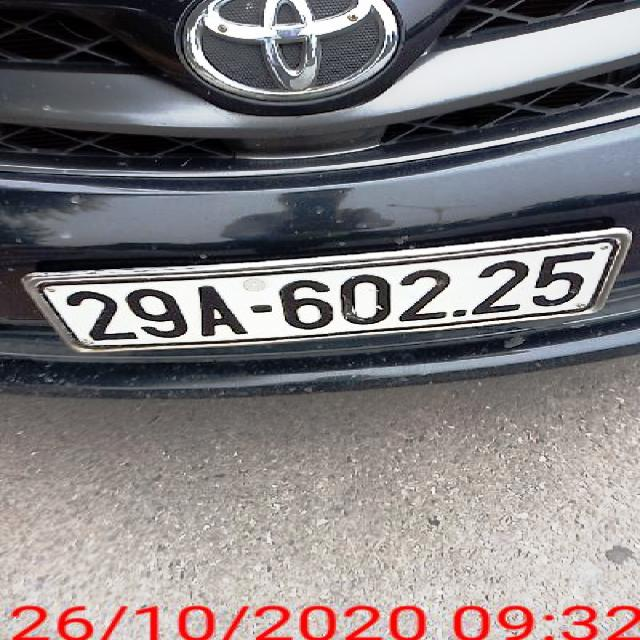license_plate: (33, 240, 624, 350)
